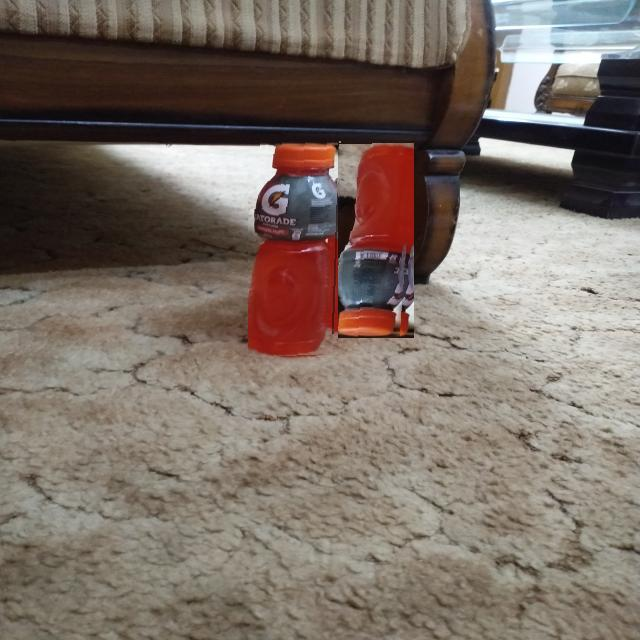Plastic: (248, 141, 341, 358), (338, 143, 414, 338)
